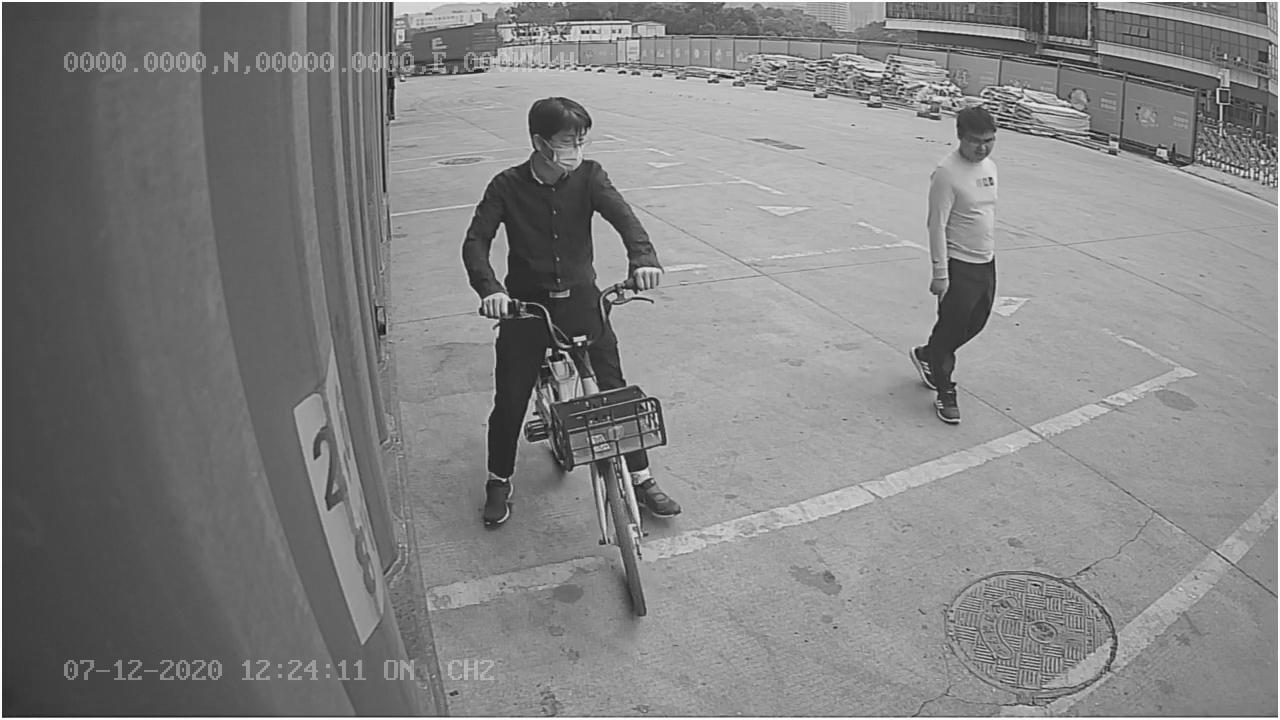person: (905, 104, 1003, 438)
